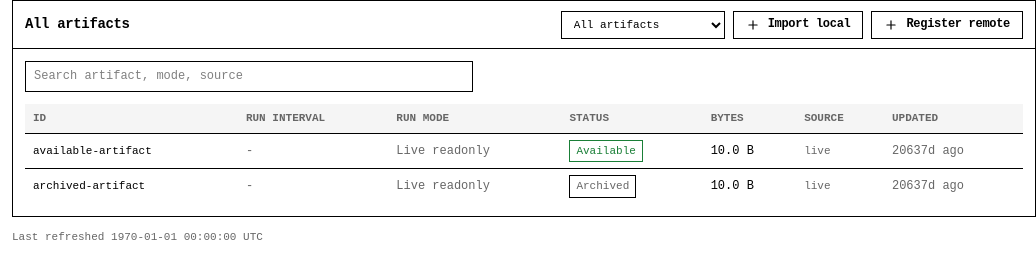
Test case: ResearchArtifactsPage › preset changes keep matching rows visible without explicit status state
The image size is (1036, 257).
Select "Archived" in the dropdown named "artifact preset" at (643, 24), box [561,10,725,38]
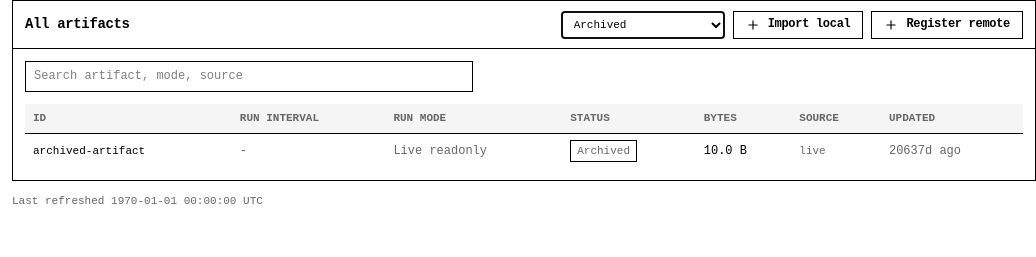
Check: the link "archived-artifact" is shown, box [33,145,145,157]
Check: the link "available-artifact" is gone
